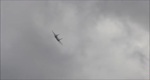maybay_muctieu: (50, 30, 61, 46)
